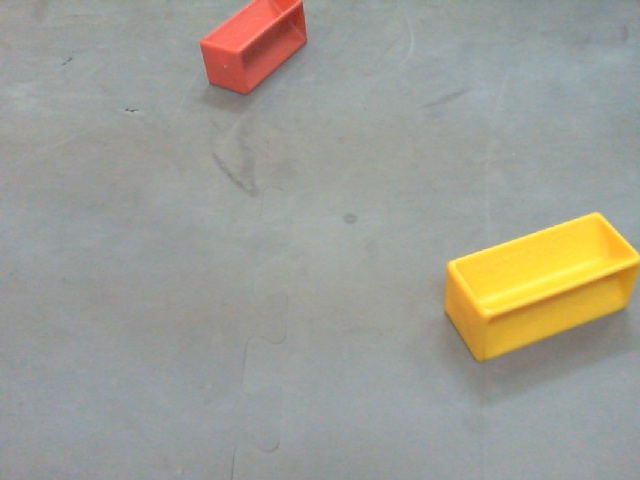RedSample: (192, 1, 307, 95)
YellowSample: (437, 211, 639, 363)
